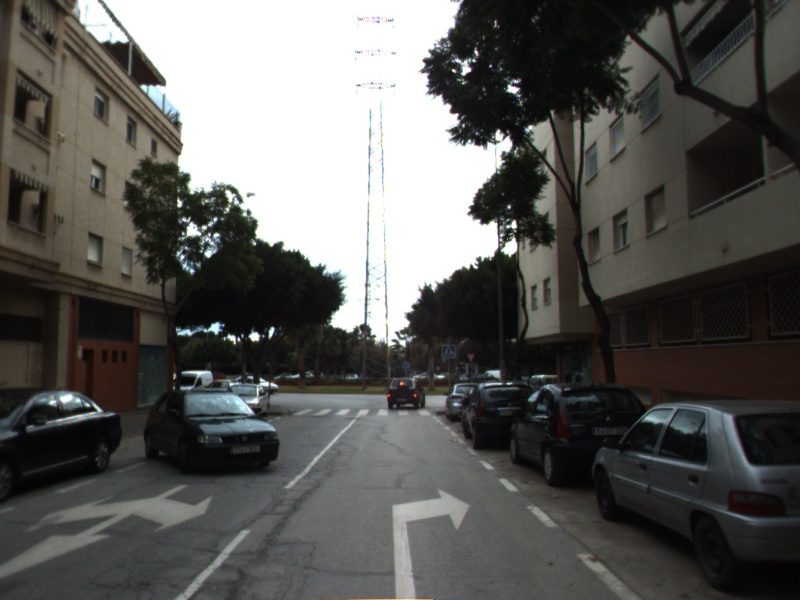RIGHT: (389, 484, 473, 600)
